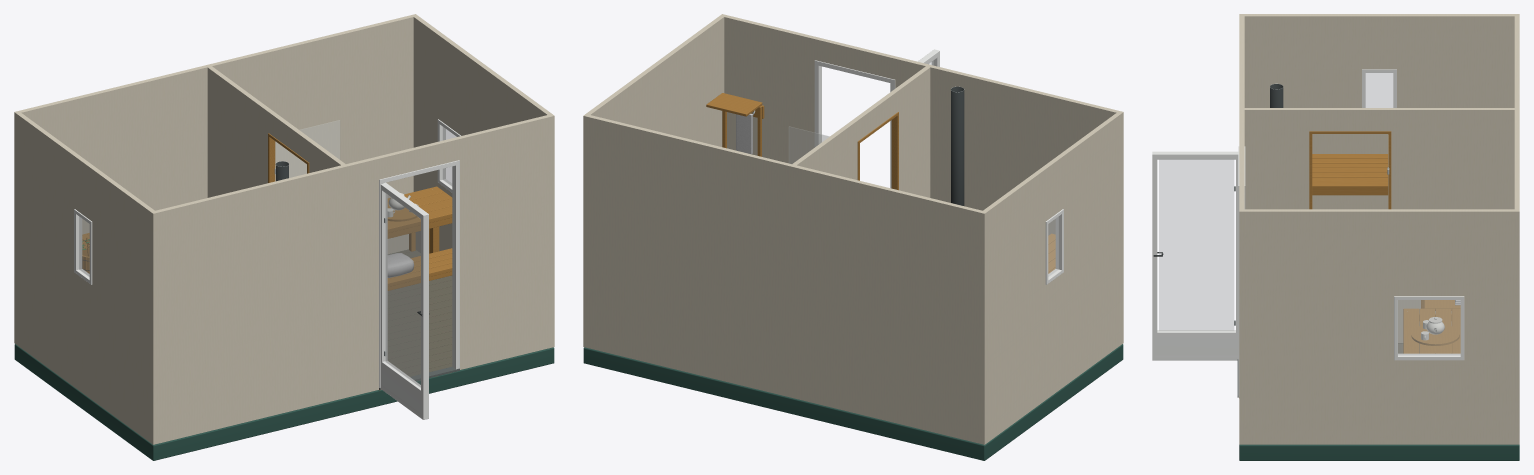
The picture shows the model from 3 angles, left to right: view 1: azimuth 30°, elevation 25°; view 2: azimuth 150°, elevation 25°; view 3: azimuth 270°, elevation 25°; orthographic projection.
Visible parts, largest first — view 1: Wall front band 2, Wall front band 7, Wall front band 6, Wall front band 4, Wall front band 5, Wall rear band 7, Wall front band 1, Wall front band 8, Wall rear band 8, Foundation, Wall rear band 6, Wall rear band 5 (+29 smaller); view 2: Wall rear band 2, Wall rear band 7, Wall rear band 4, Wall rear band 5, Wall rear band 6, Wall rear band 1, Wall rear band 8, Foundation, Wall front band 8, Wall front band 7, Wall front band 6, Wall rear band 0 (+27 smaller); view 3: Single PVC glass panel, Wall right band 2, Wall left band 7, Wall right band 7, Wall right band 6, Wall right band 1, Wall left band 6, Wall right band 8, Wall left band 8, Wall top_14_0003 band 8, Wall right band 4, Wall right band 5 (+31 smaller).
Part boxes in pixels (box(x1,y1,x2,y2)): Wall front band 2: box(150, 268, 554, 400); Wall front band 7: box(150, 137, 554, 266); Wall front band 6: box(150, 168, 554, 297); Wall front band 4: box(150, 231, 554, 360); Wall front band 5: box(150, 200, 554, 329); Wall rear band 7: box(14, 38, 413, 165); Wall front band 1: box(150, 303, 554, 430); Wall front band 8: box(150, 114, 554, 234); Wall rear band 8: box(14, 14, 417, 134); Foundation: box(14, 344, 554, 460); Wall rear band 6: box(14, 69, 413, 197); Wall rear band 5: box(14, 101, 413, 228); Wall rear band 2: box(583, 268, 987, 400); Wall rear band 7: box(583, 137, 987, 266); Wall rear band 4: box(583, 231, 987, 360); Wall rear band 5: box(583, 200, 987, 329); Wall rear band 6: box(583, 168, 987, 297); Wall rear band 1: box(583, 303, 987, 430); Wall rear band 8: box(583, 114, 987, 234); Foundation: box(583, 344, 1123, 460); Wall front band 8: box(720, 14, 1123, 134); Wall front band 7: box(724, 38, 1123, 165); Wall front band 6: box(724, 69, 1123, 197); Wall rear band 0: box(583, 333, 987, 444); Single PVC glass panel: box(1159, 160, 1233, 330); Wall right band 2: box(1244, 365, 1514, 399); Wall left band 7: box(1244, 37, 1514, 69); Wall right band 7: box(1244, 232, 1514, 264); Wall right band 6: box(1244, 264, 1514, 296); Wall right band 1: box(1244, 400, 1514, 430); Wall left band 6: box(1244, 69, 1514, 100); Wall right band 8: box(1244, 209, 1514, 232); Wall left band 8: box(1244, 14, 1514, 37); Wall top_14_0003 band 8: box(1244, 108, 1514, 131); Wall right band 4: box(1244, 328, 1514, 359); Wall right band 5: box(1244, 296, 1514, 327).
Size of the model in its own units: 4.02 by 2.36 by 3.14.
30 materials, 11 textured.
